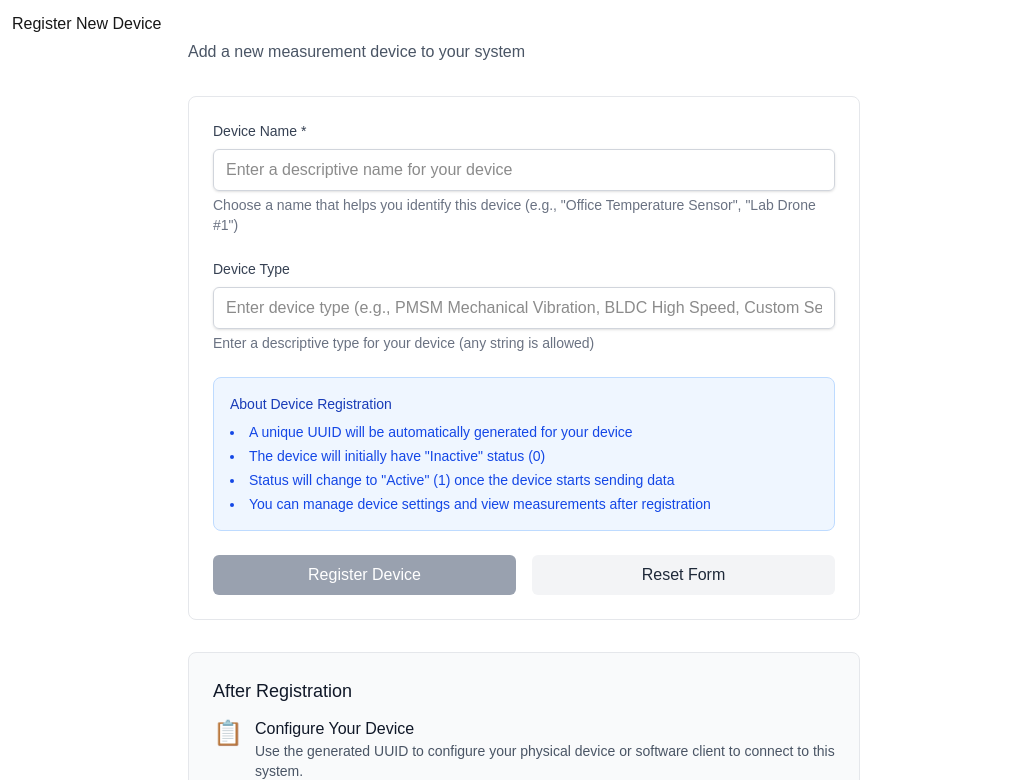
Test: DeviceRegisterPage › enables submit button when device name is filled
Fill device name
Type "Test Device" into the field labelled "Device Name *" at (524, 170), box [213,149,835,191]
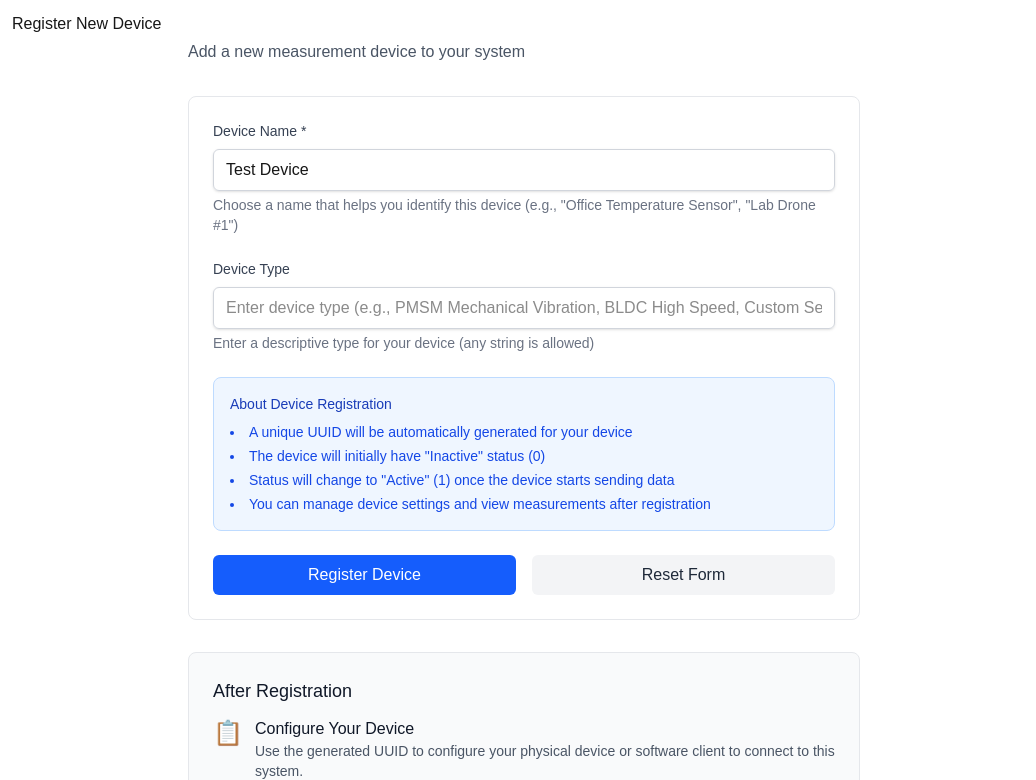
Expected: the button "Register Device" is enabled, [213,555,516,595]
